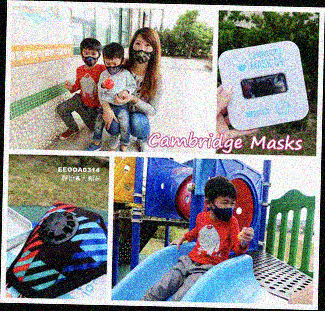with_mask: (212, 197, 237, 225), (130, 38, 154, 66), (80, 49, 100, 68), (104, 59, 123, 77)
